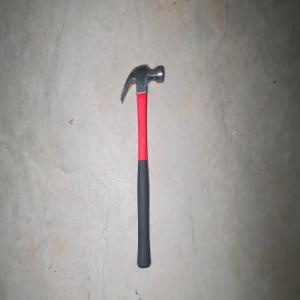Hammer: (119, 63, 164, 269)
